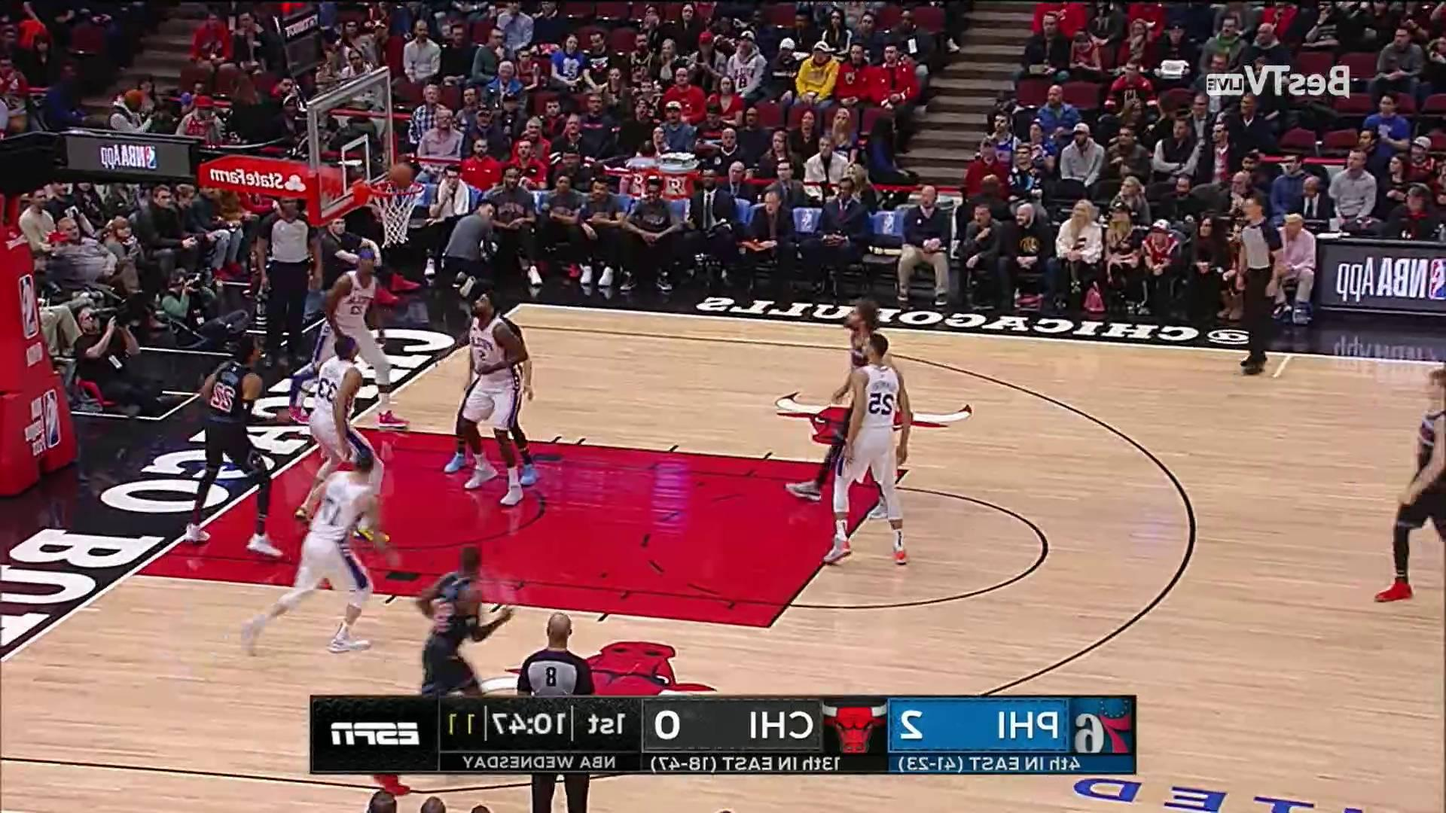basketball: (384, 161, 410, 187)
